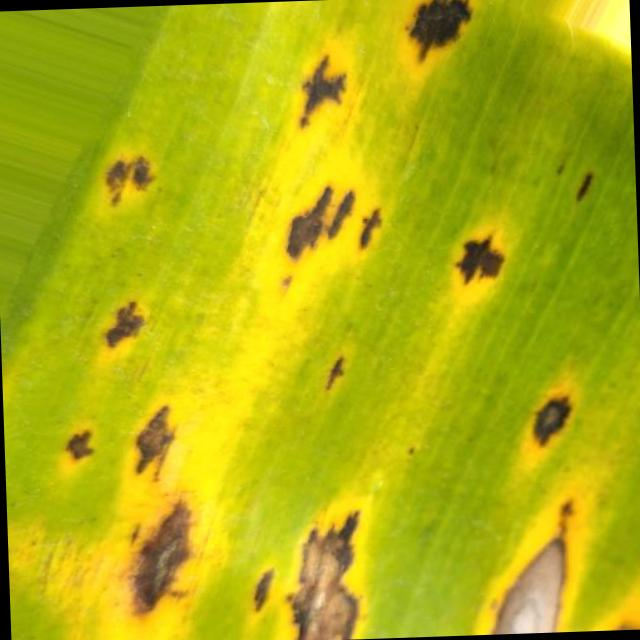Banana_Yellow_Sigatoka: (64, 377, 362, 640), (263, 1, 520, 290), (466, 390, 597, 630)
